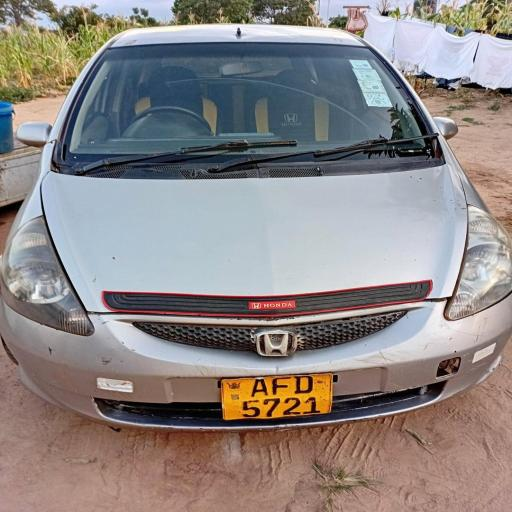number-plates: (220, 378, 340, 418)
